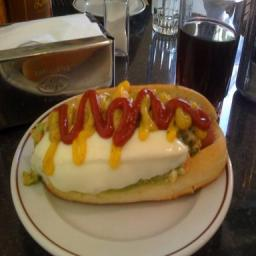hotdog: (204, 118, 224, 154)
